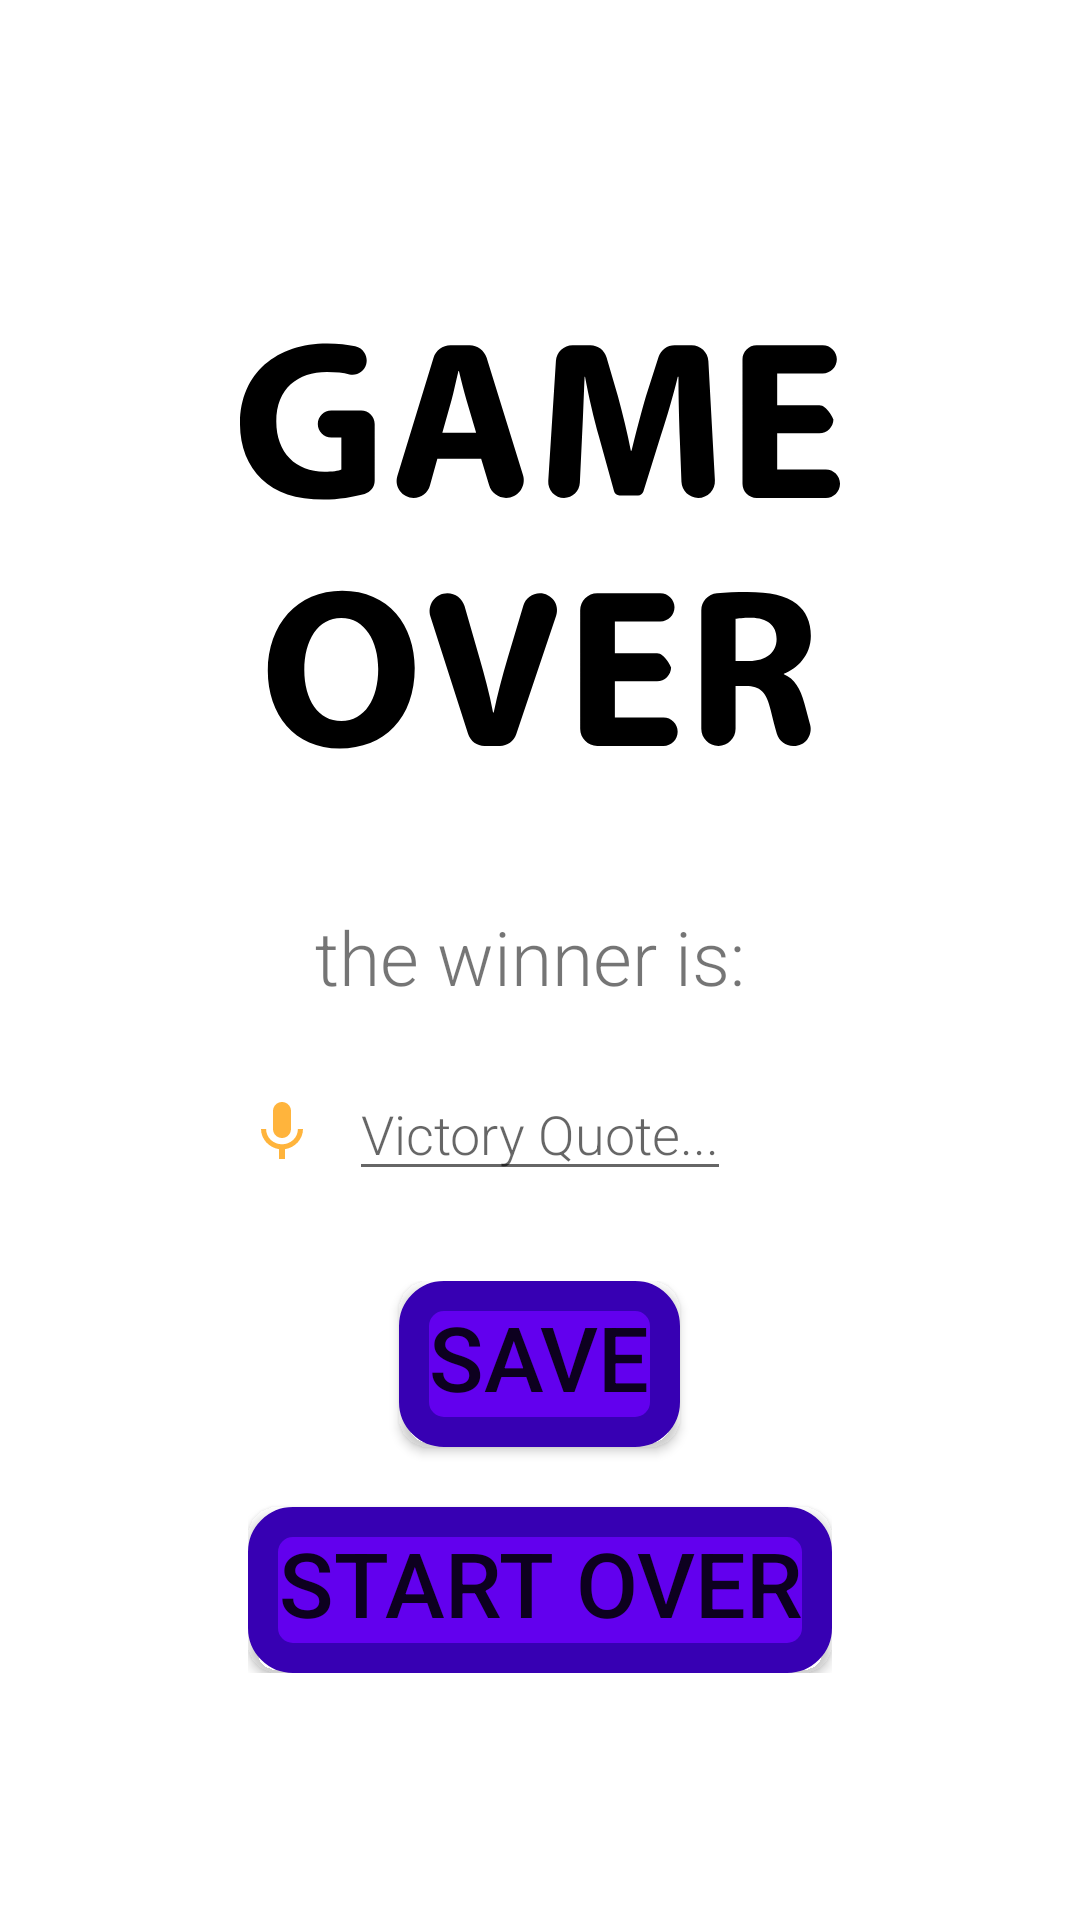

Named icons in this screenshot (1080px×1920px) and their bounding boxes, (x1, y1, x2, y2):
mic: (261, 1102, 303, 1159)
